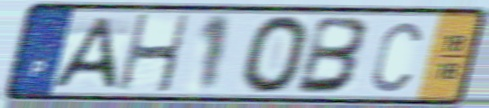1: (194, 13, 231, 96)
A: (47, 15, 118, 92)
B: (292, 14, 372, 96)
C: (369, 18, 425, 94)
H: (115, 12, 193, 95)
O: (239, 13, 313, 97)
